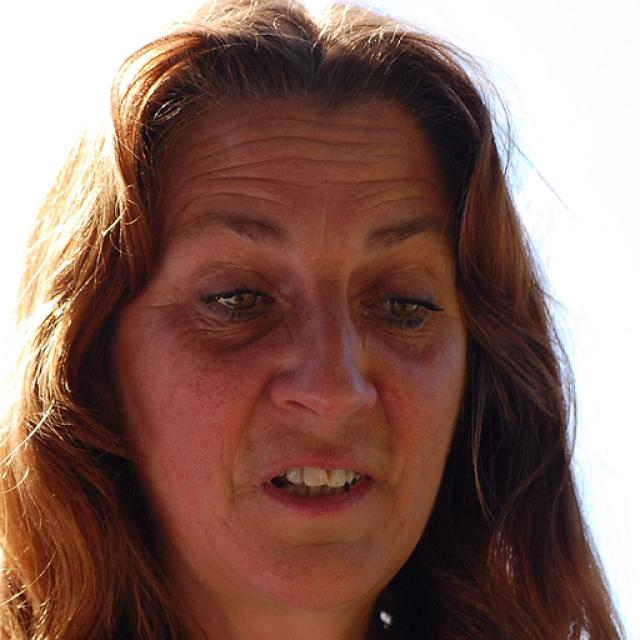Wrinkle: (184, 133, 398, 168), (183, 151, 426, 179), (206, 186, 289, 213), (358, 190, 435, 216), (333, 169, 440, 187)
